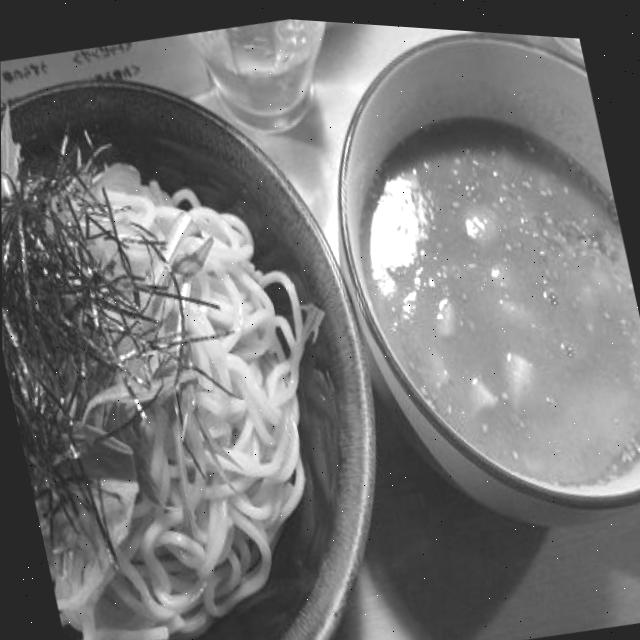面条主食: (0, 29, 640, 640)
